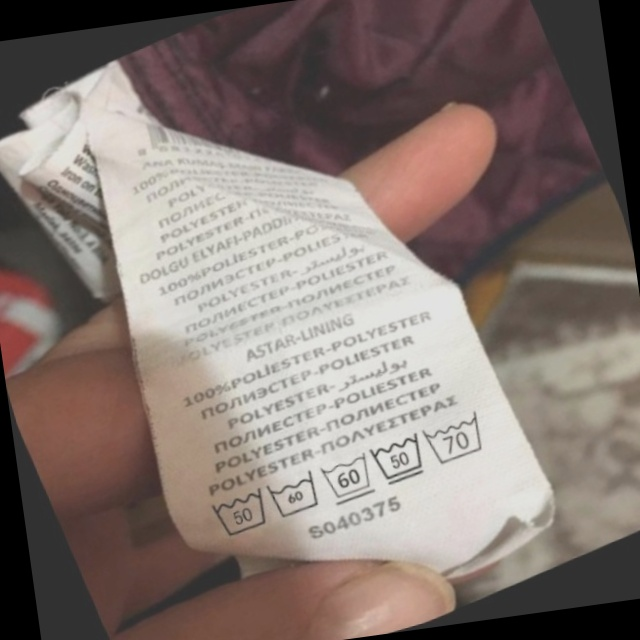50C: (198, 474, 283, 550), (362, 422, 439, 496)
60C: (313, 442, 387, 512), (259, 460, 333, 529)
70C: (417, 401, 501, 473)
